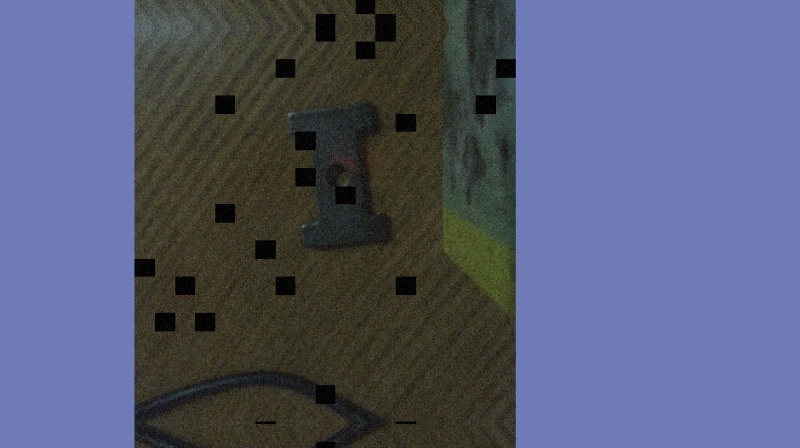O002: (287, 102, 393, 249)
